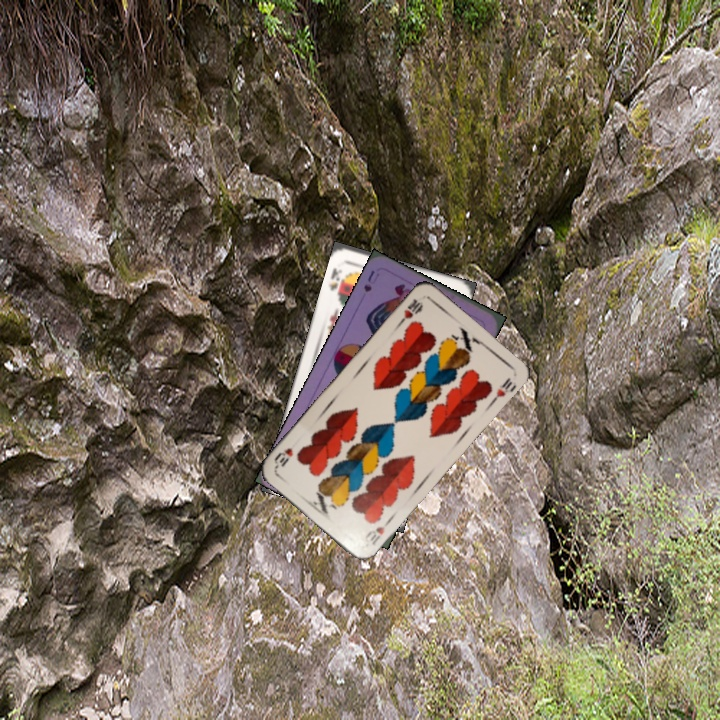H10: (361, 515, 393, 547), (395, 294, 426, 327)
SK: (325, 264, 344, 293)
SU: (360, 266, 382, 295)
